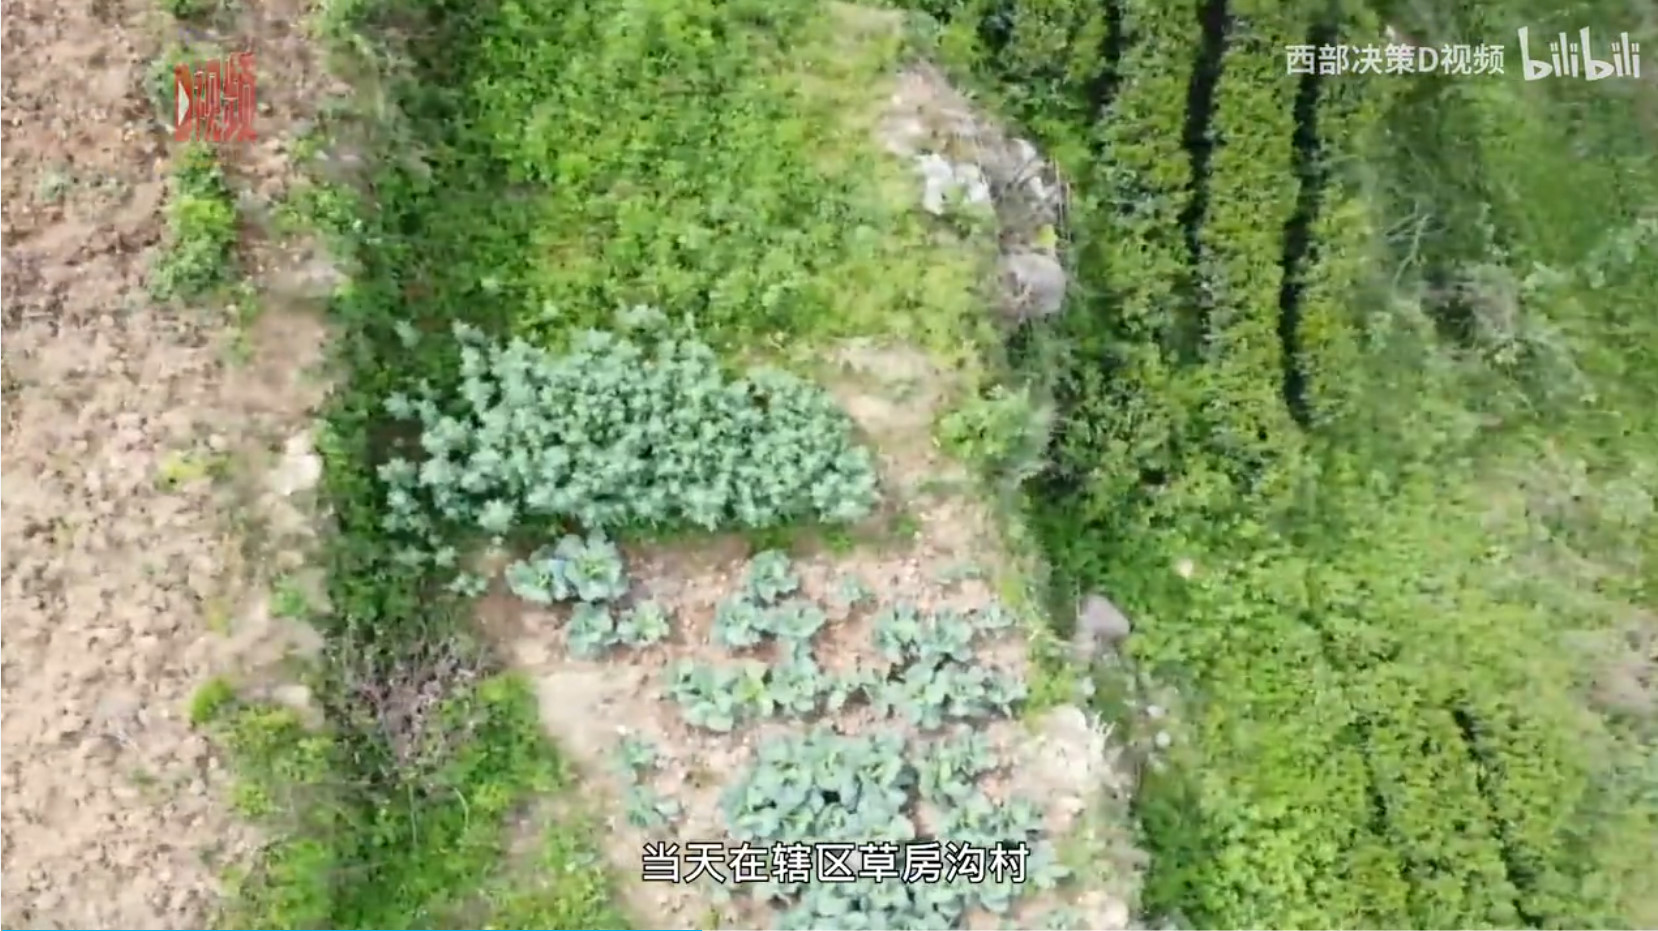Poppy: (361, 289, 898, 537), (701, 724, 1052, 923), (657, 547, 1029, 726), (490, 525, 678, 662)
